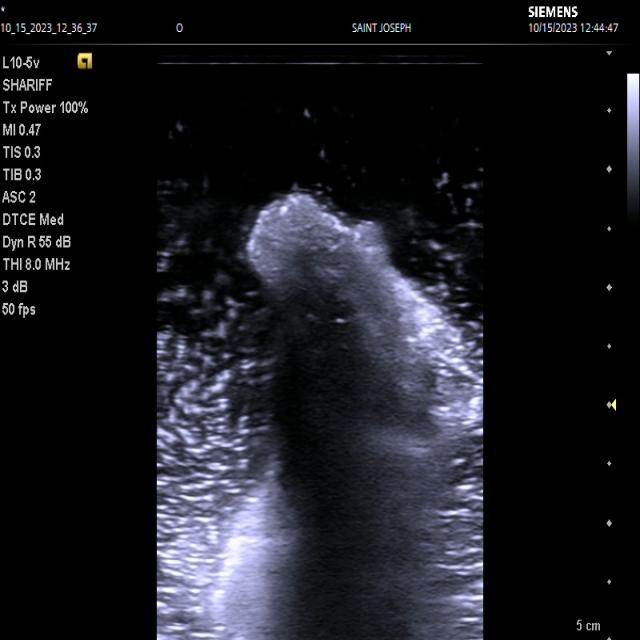tissue: (241, 195, 485, 455)
